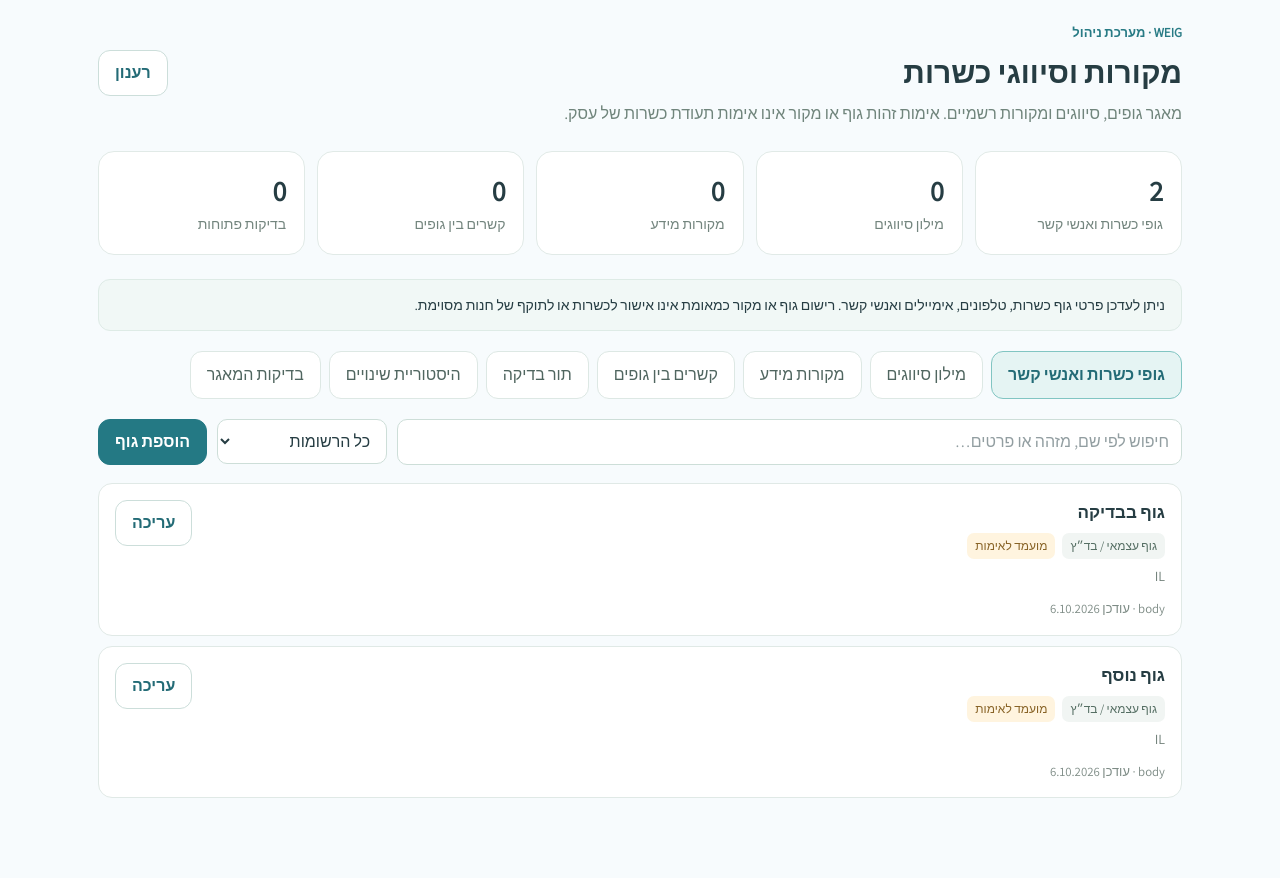
Scenario: allows a scoped relationship to be reviewed without starting collection
Expected: the heading "גוף בבדיקה" is shown, [1078,501,1165,523]
Click the button "קשרים בין גופים" at (666, 375), box [597,351,735,399]
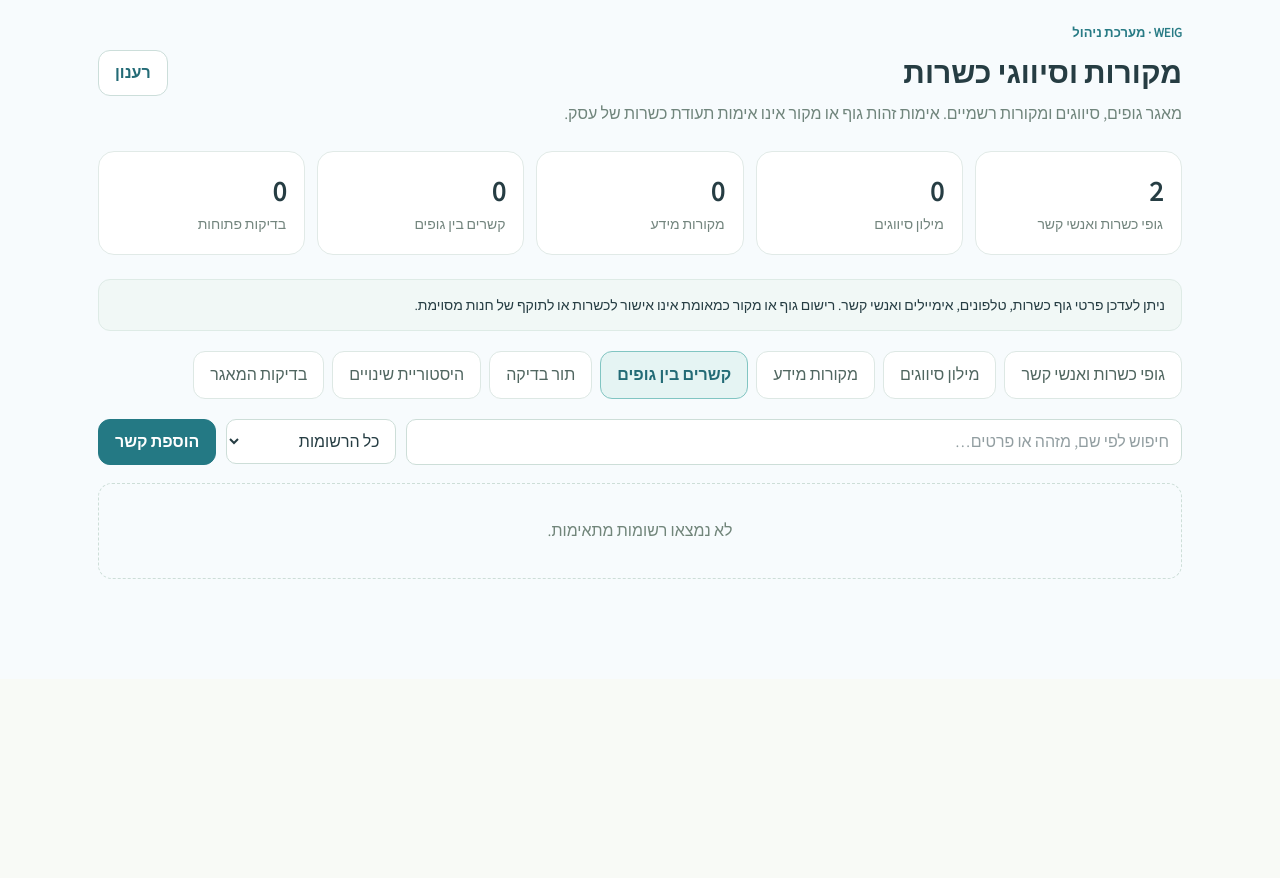
Click the button "הוספת קשר" at (157, 442), box [98,419,216,465]
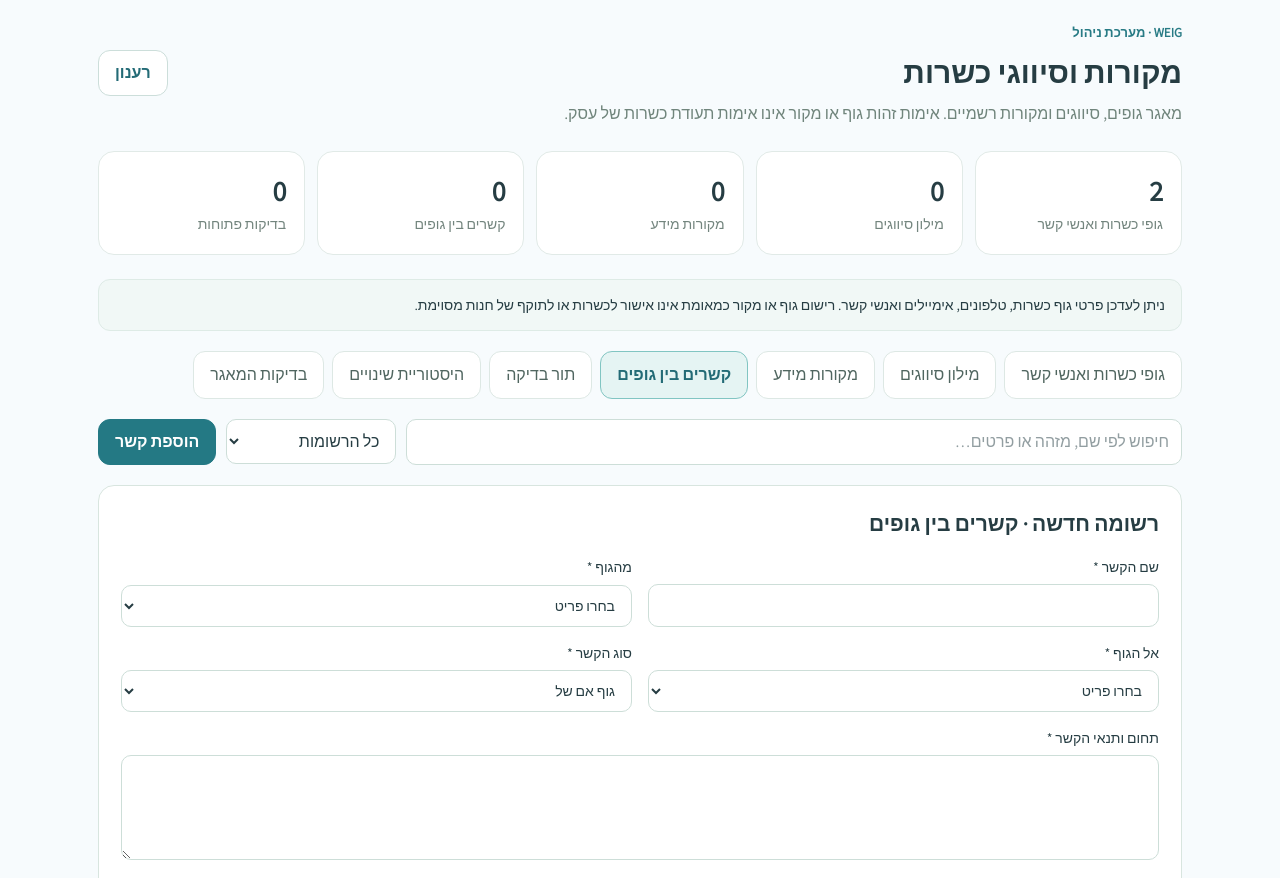
Type "קשר מועמד" into the field labelled "שם הקשר *" at (904, 606), box [648,584,1159,628]
Select "גוף בבדיקה" in the dropdown labelled "מהגוף *" at (376, 606), box [121,585,632,628]
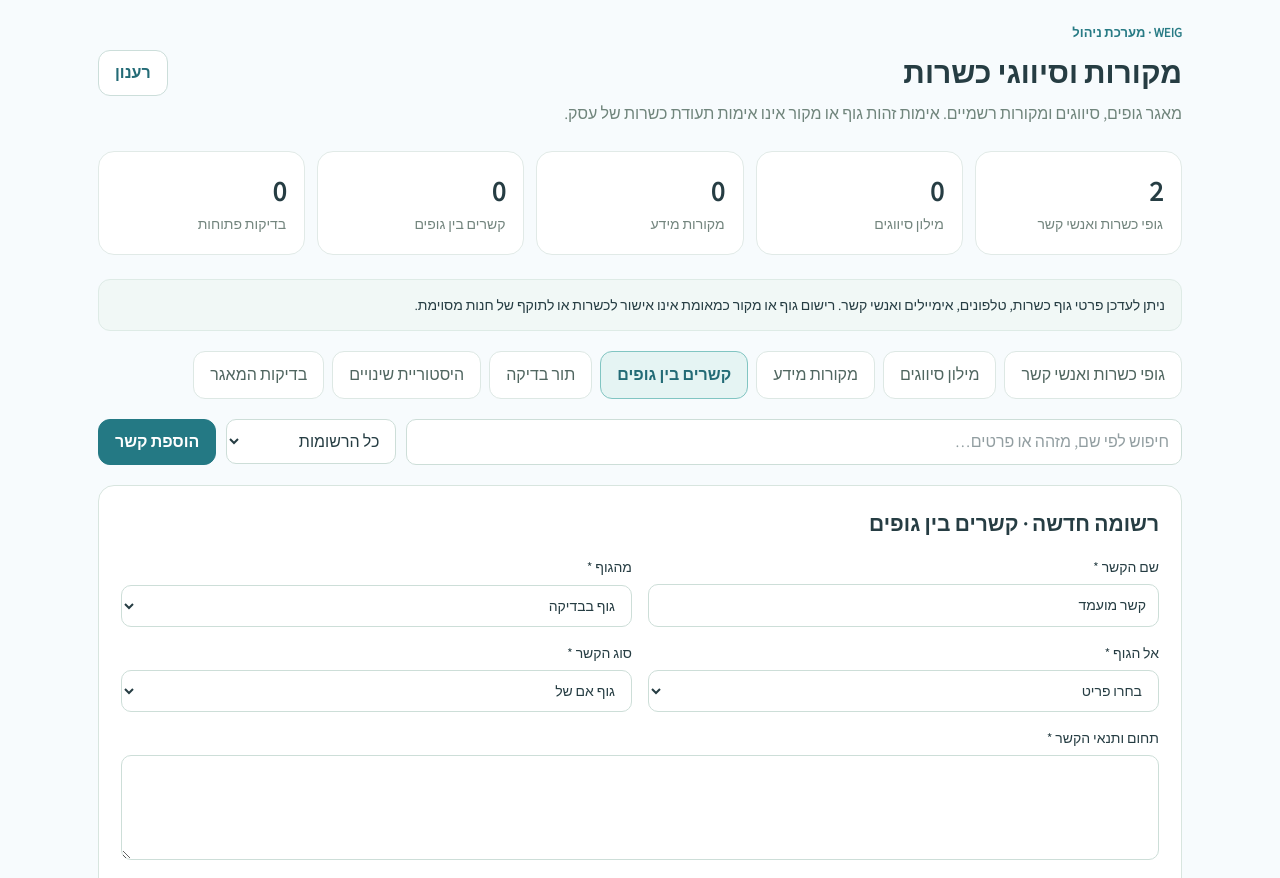
Select "גוף נוסף" in the dropdown labelled "אל הגוף *" at (904, 692), box [648,670,1159,712]
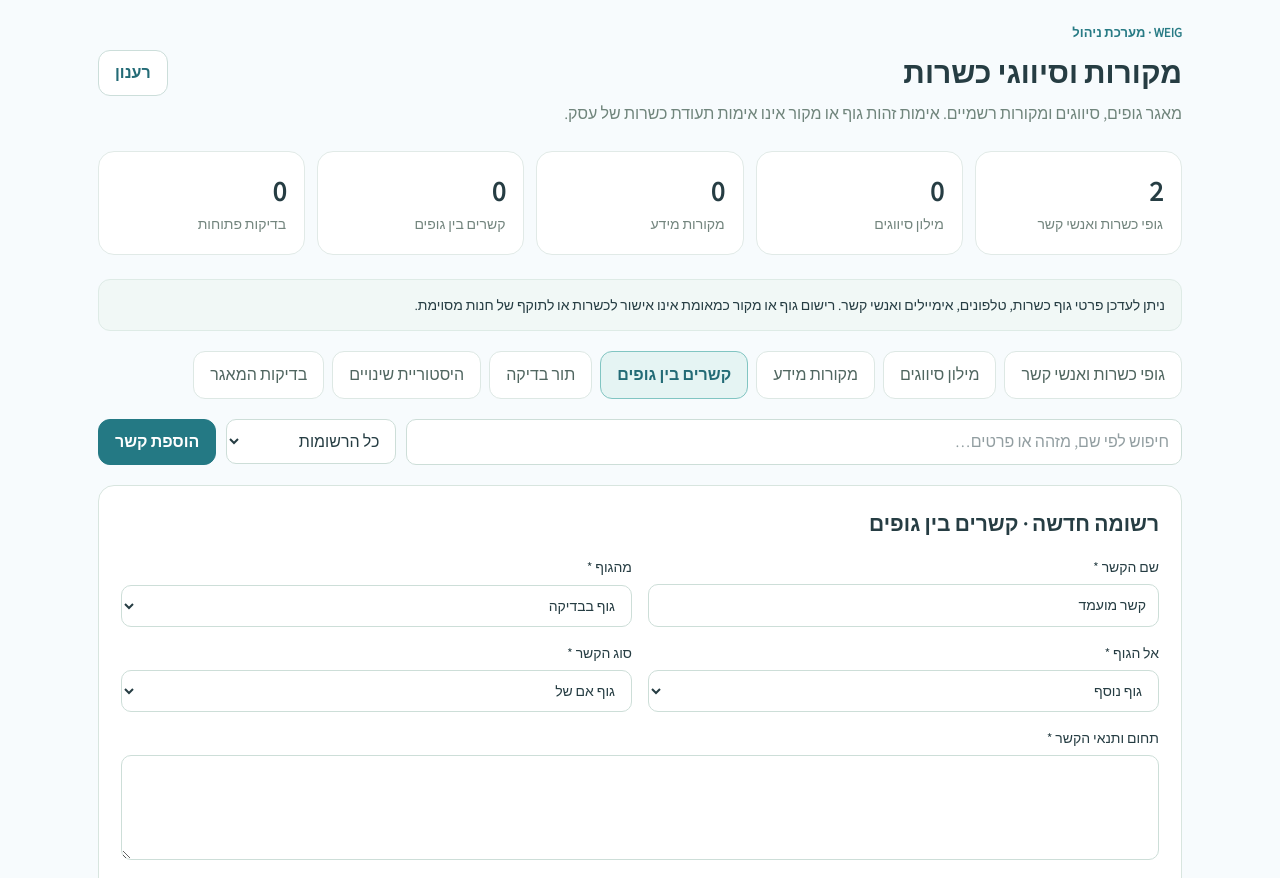
Type "תחום לבדיקה בלבד" into the text box labelled "תחום ותנאי הקשר *" at (640, 808), box [121,756,1159,860]
(page scrolled)
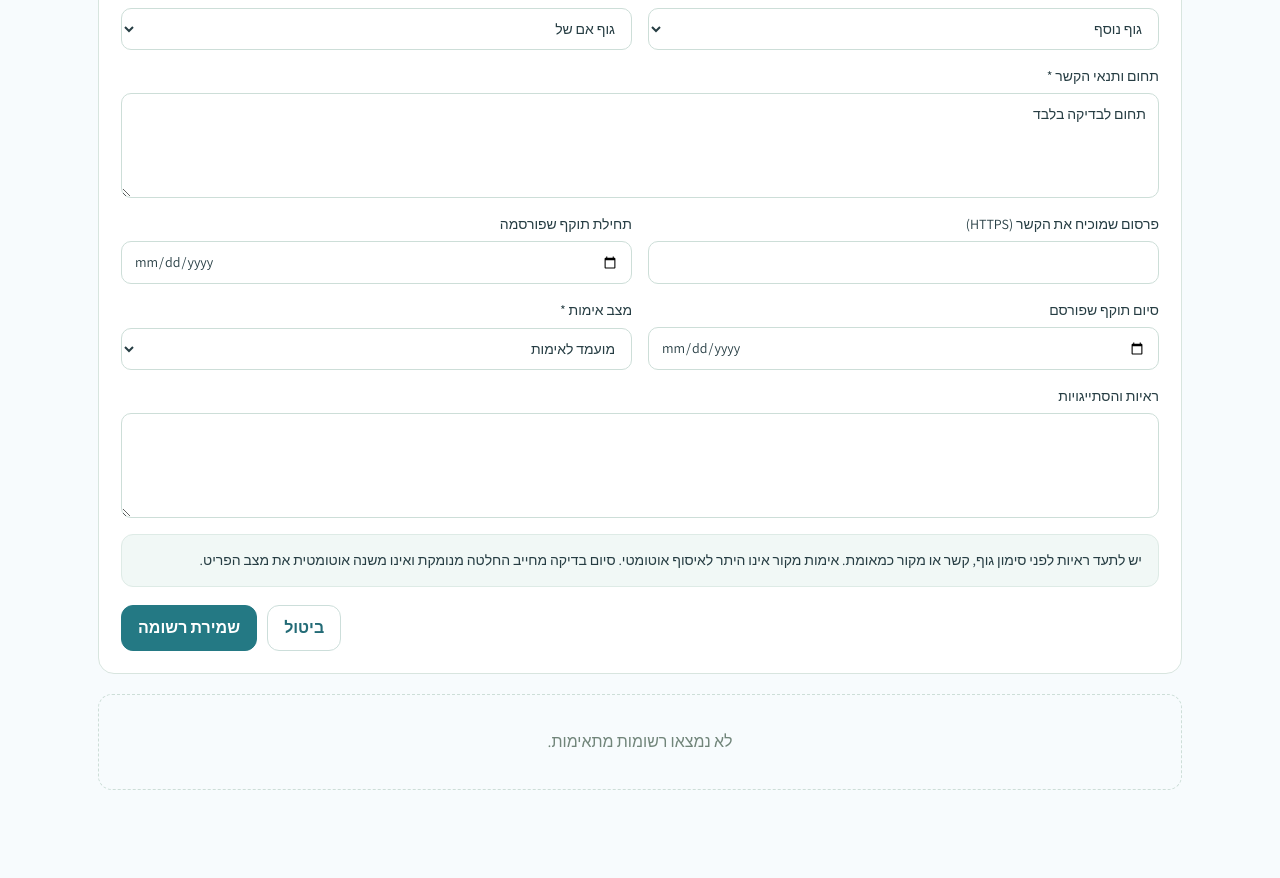
Click the button "שמירת רשומה" at (189, 628), box [121,605,257,651]
(page scrolled)
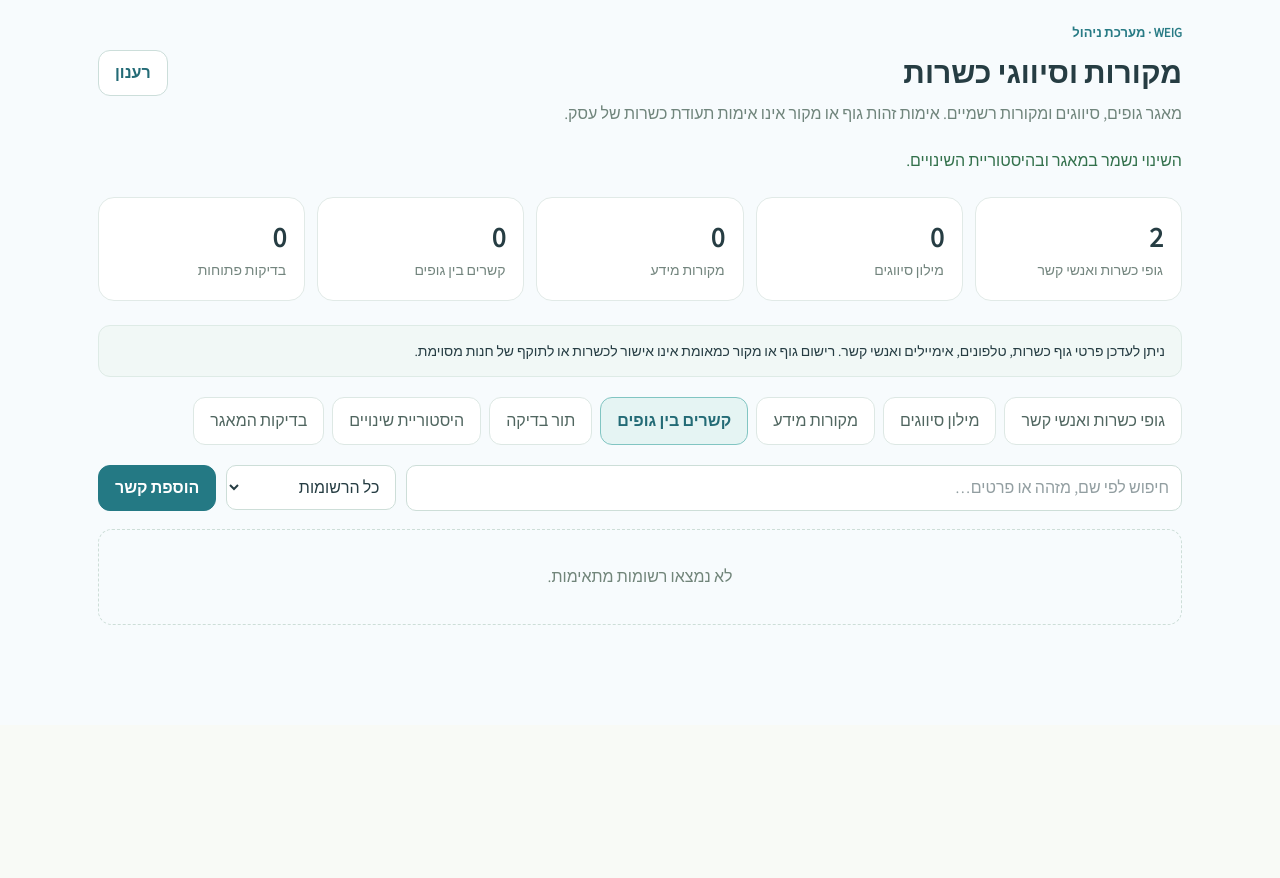
Expected: the text "השינוי נשמר במאגר ובהיסטוריית השינויים." is shown, [906,150,1182,171]
